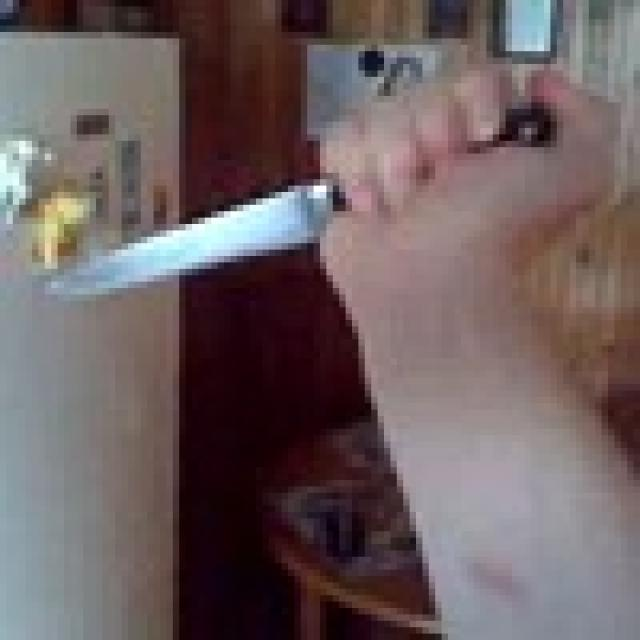Knife_Handle: (45, 58, 614, 301)
